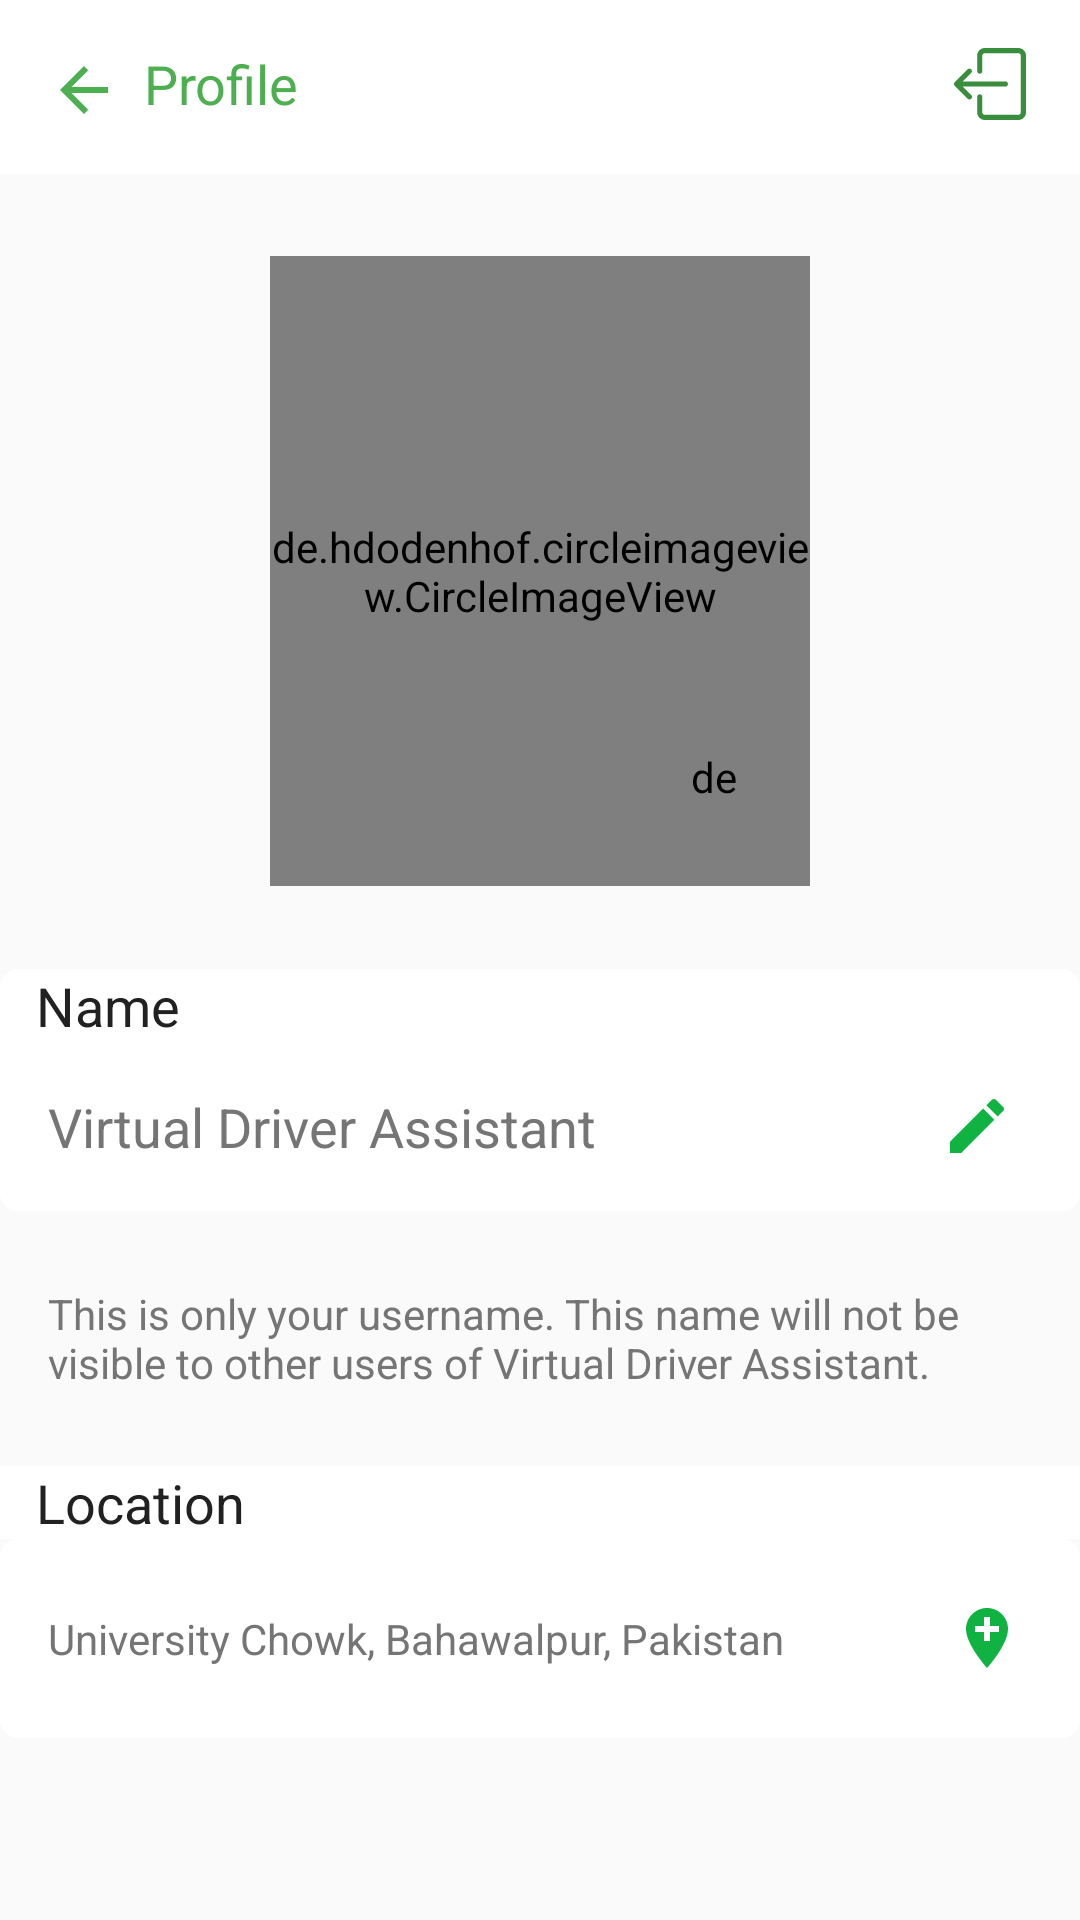

Where to tap for icons on this 1080 × 1920 app screen, as (x,y):
back: (84,90)
edit: (977,1126)
sign out: (990,84)
